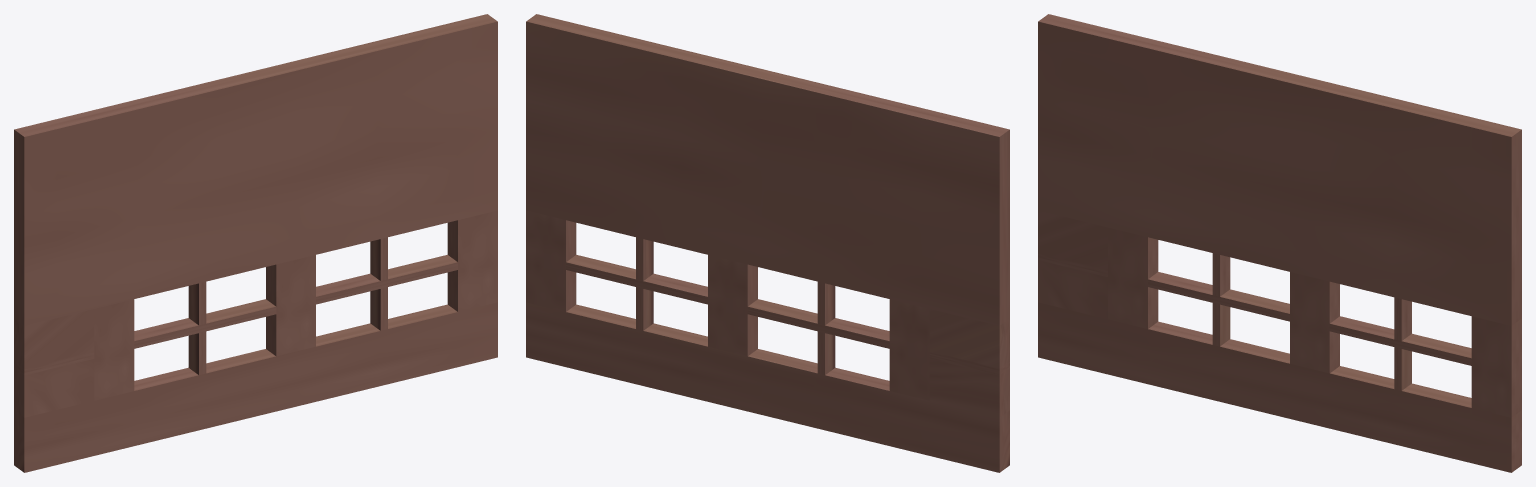
The model's file is SM_Pub_Wall_Right.fbx.
3 views of the same model, side by side, from view 1: azimuth 30°, elevation 25°; view 2: azimuth 150°, elevation 25°; view 3: azimuth 330°, elevation 25° (orthographic).
Visible parts, largest first — view 1: SM_Pub_Wall_Right; view 2: SM_Pub_Wall_Right; view 3: SM_Pub_Wall_Right.
Boxes of the visible parts, left/top/right/bottom form: SM_Pub_Wall_Right: left=14, top=14, right=497, bottom=472; SM_Pub_Wall_Right: left=526, top=14, right=1009, bottom=472; SM_Pub_Wall_Right: left=1038, top=14, right=1521, bottom=472.
Bounding box in the file's own units: 672 × 456 × 25.41.
